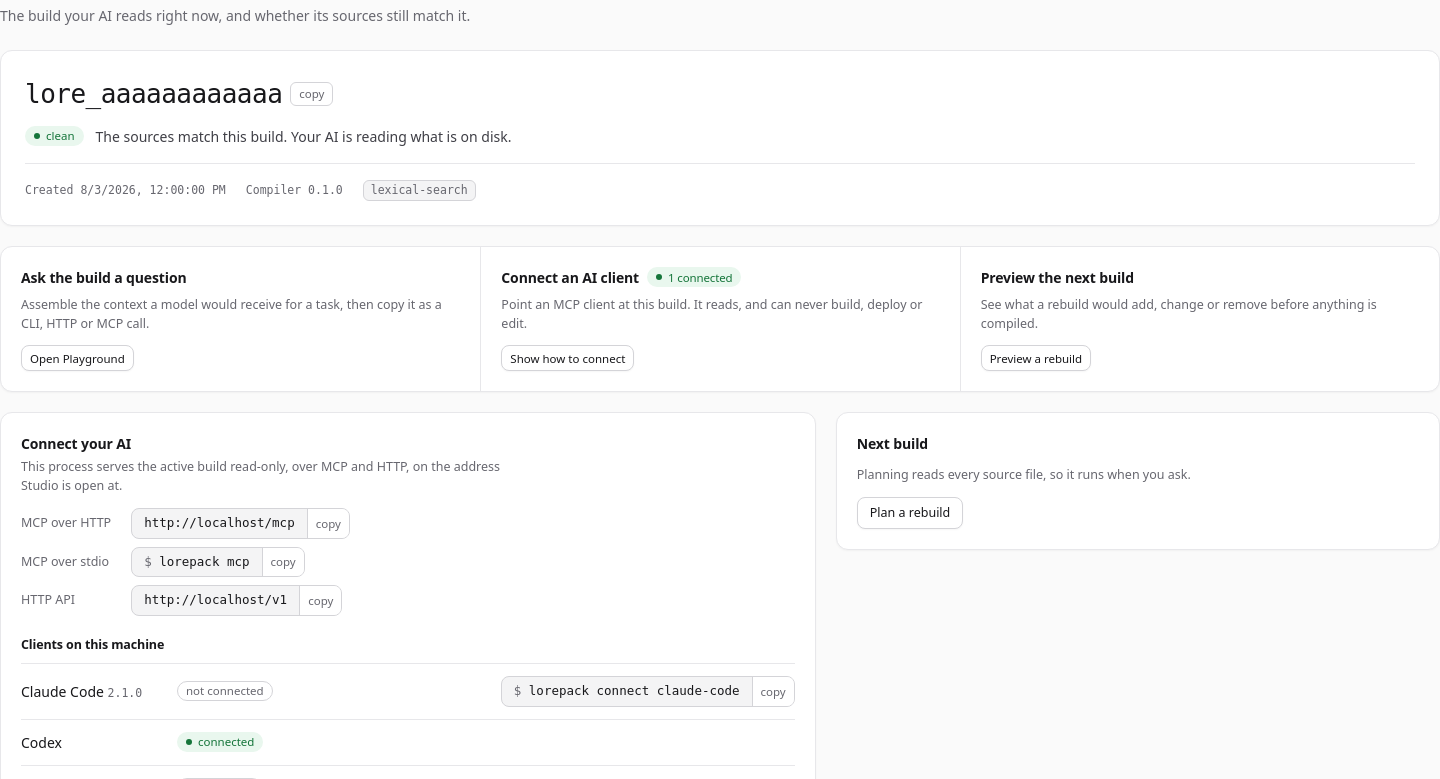
Test: getting a developer from `lorepack dev` to a connected client › counts connected clients in the next step, and plans a rebuild from it
Expected: the text "1 connected" is shown, [647,267,741,287]
Click the button "Preview a rebuild" at (1036, 358), box [981,345,1091,371]
(page scrolled)
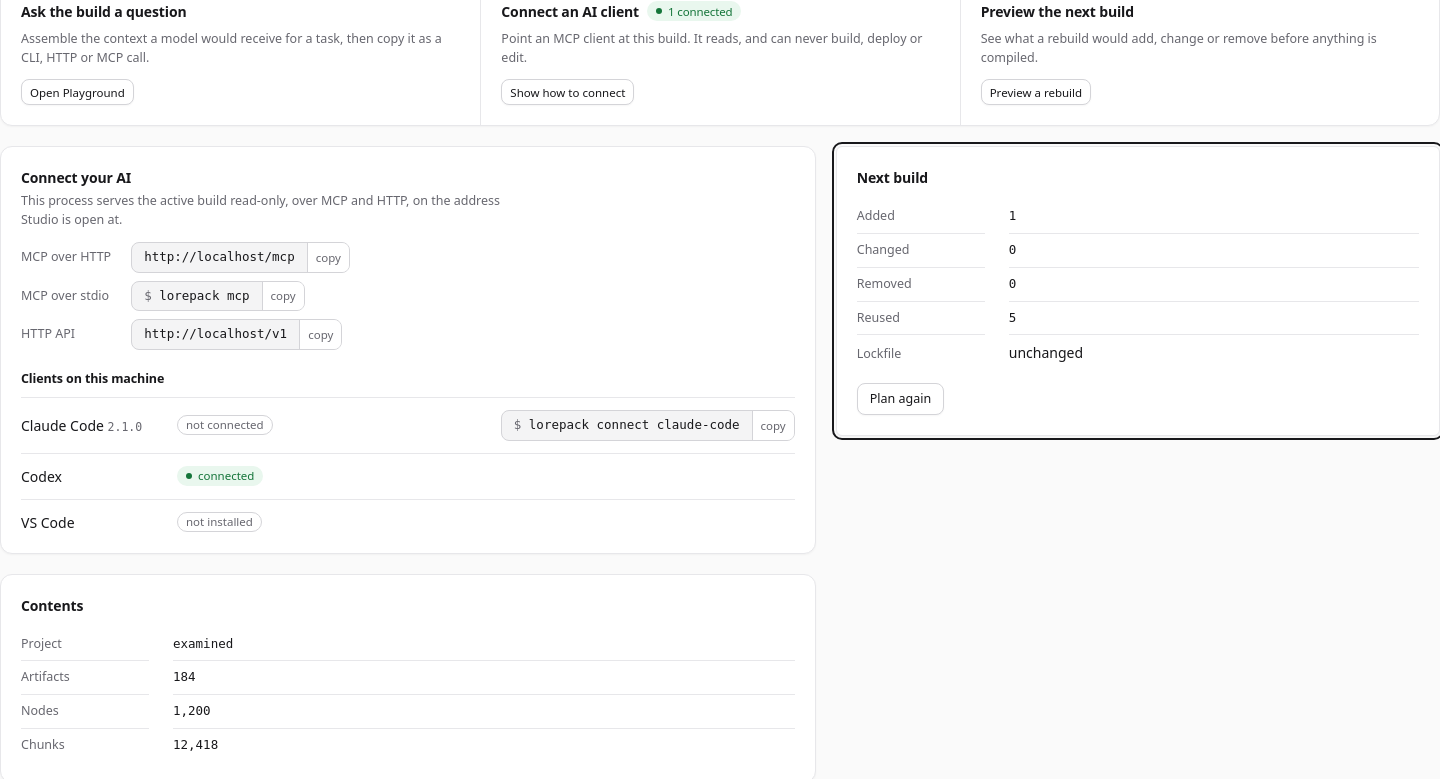
Expected: the text "Reused" is shown, [857,302,985,335]
Expected: the button "Plan a rebuild" is gone
